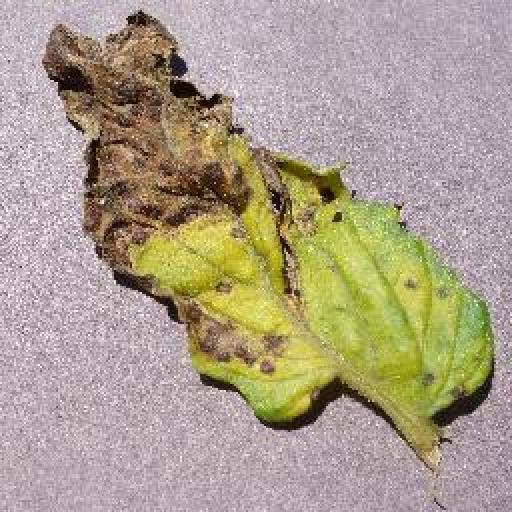Septoria: (42, 7, 497, 416)
